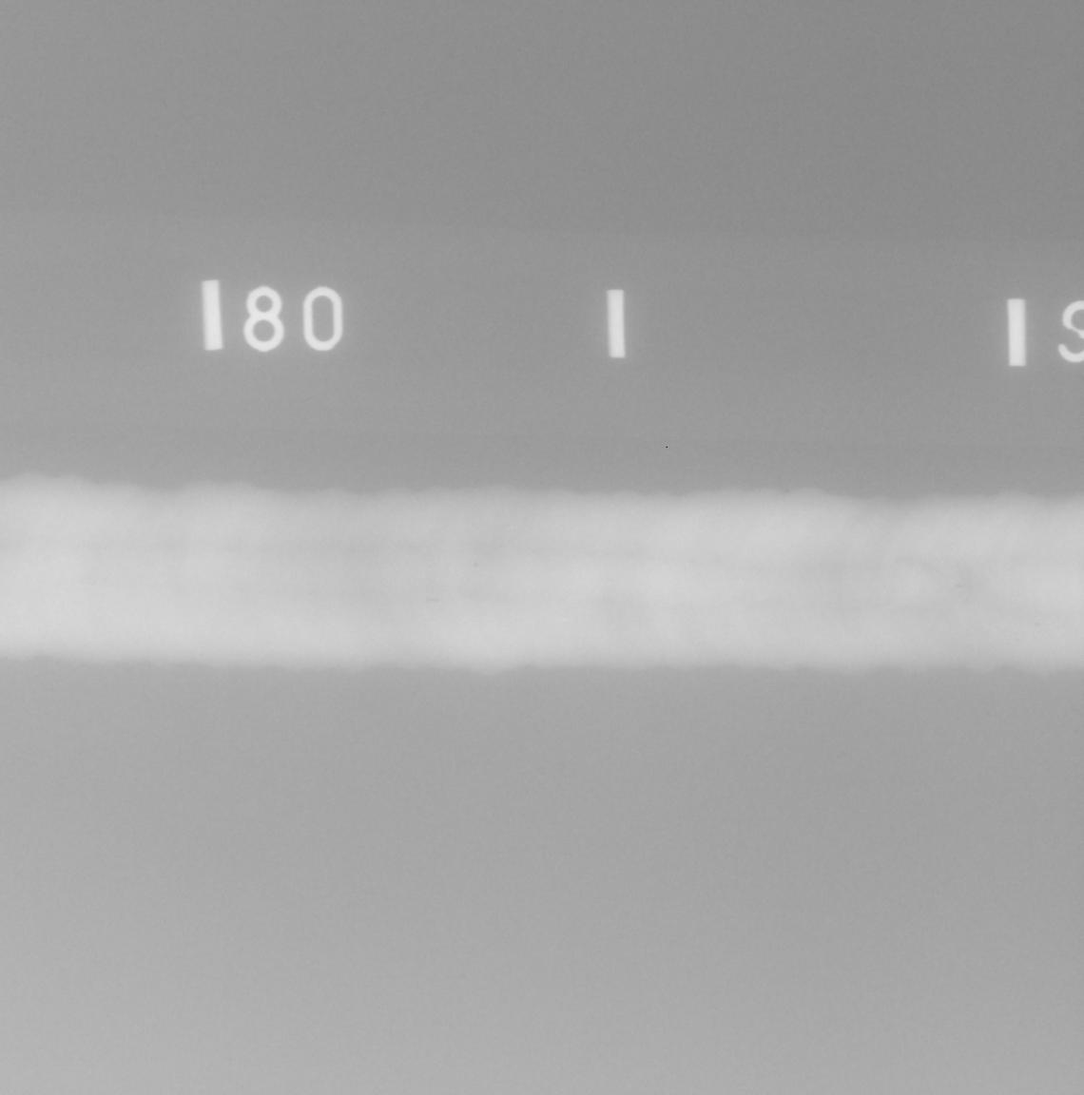Incomplete Root Penetration: (956, 584, 963, 587)
Lack of Fusion: (426, 598, 437, 601)
Pore/Porosity: (1016, 638, 1021, 644), (1035, 622, 1040, 627), (473, 562, 477, 567), (716, 558, 719, 562)
